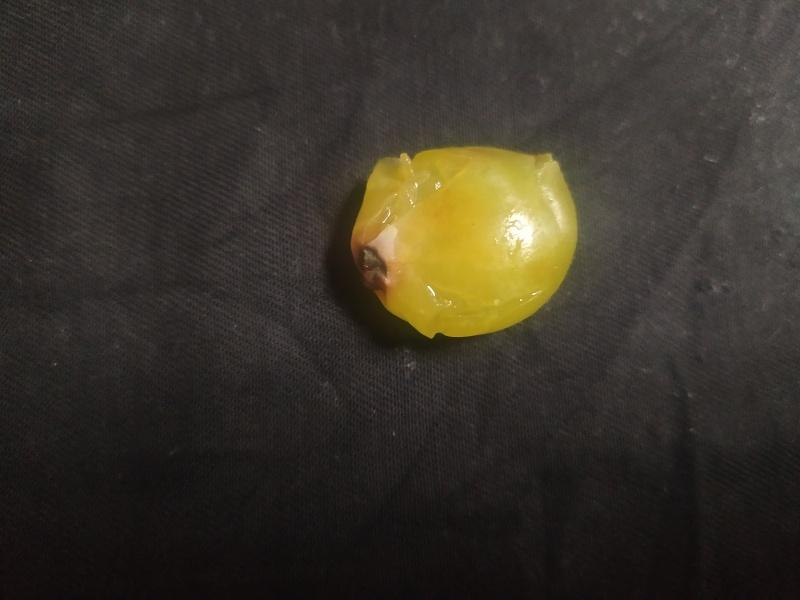Grape Overripe: (348, 144, 581, 341)
